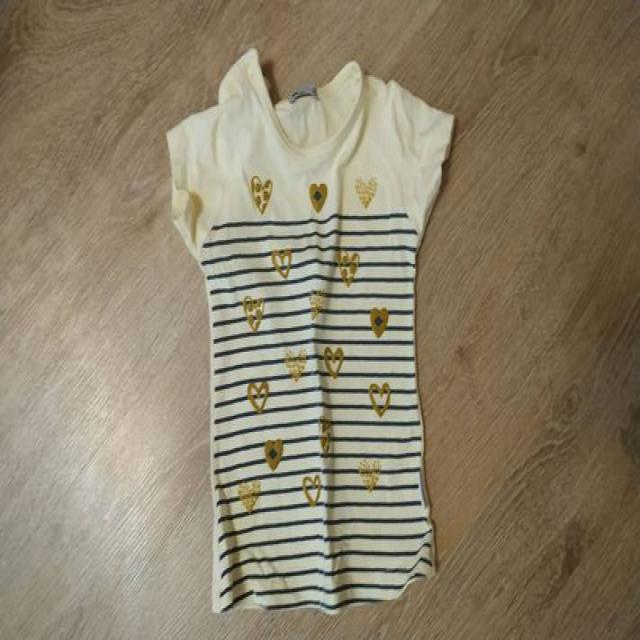Clothes -Biodegradable-: (164, 50, 451, 624)
